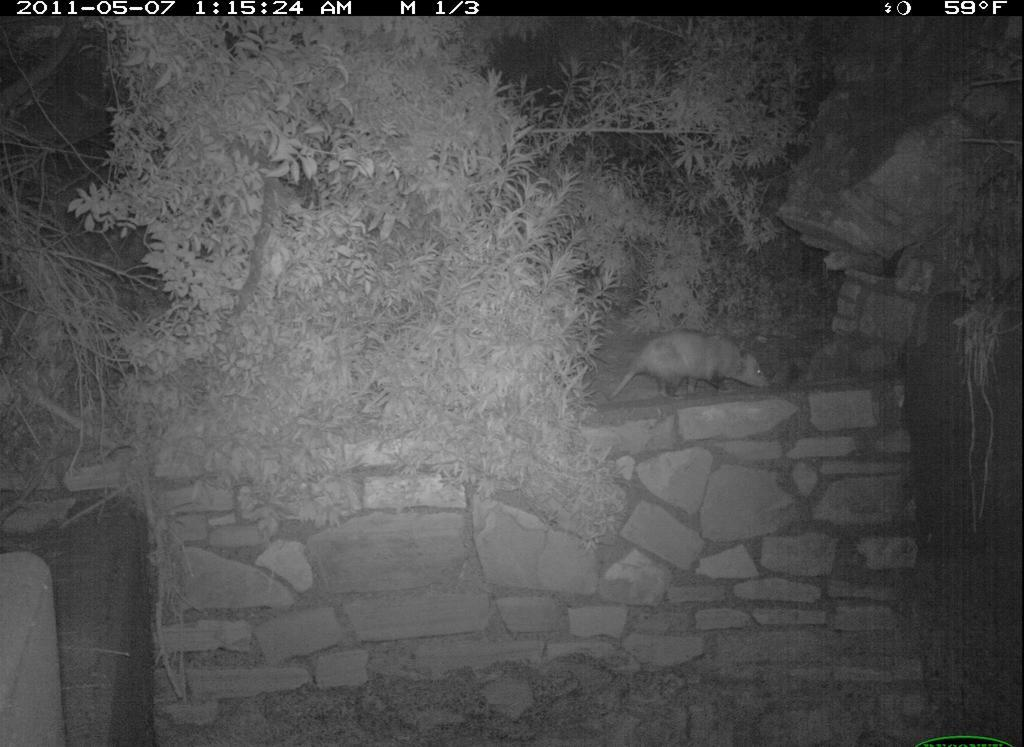opossum: (602, 322, 780, 406)
